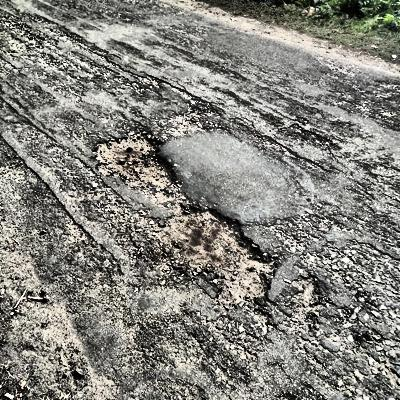pothole: (149, 204, 276, 303), (88, 127, 183, 195), (290, 276, 322, 309)
